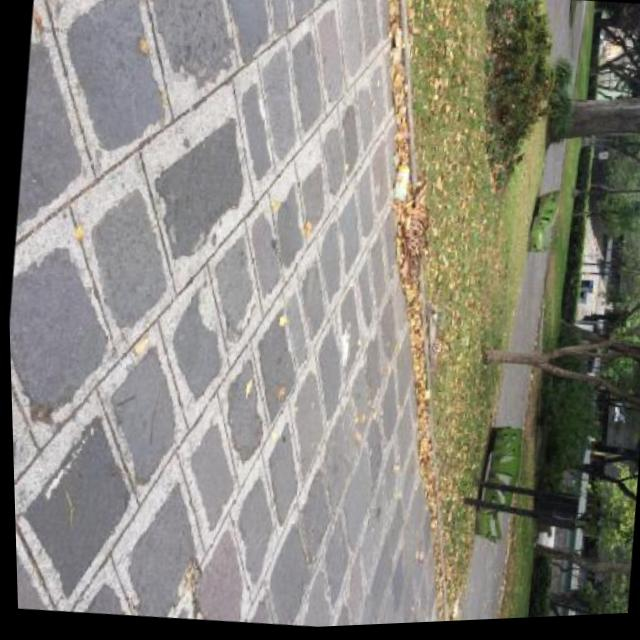cardboard: (391, 160, 410, 201)
